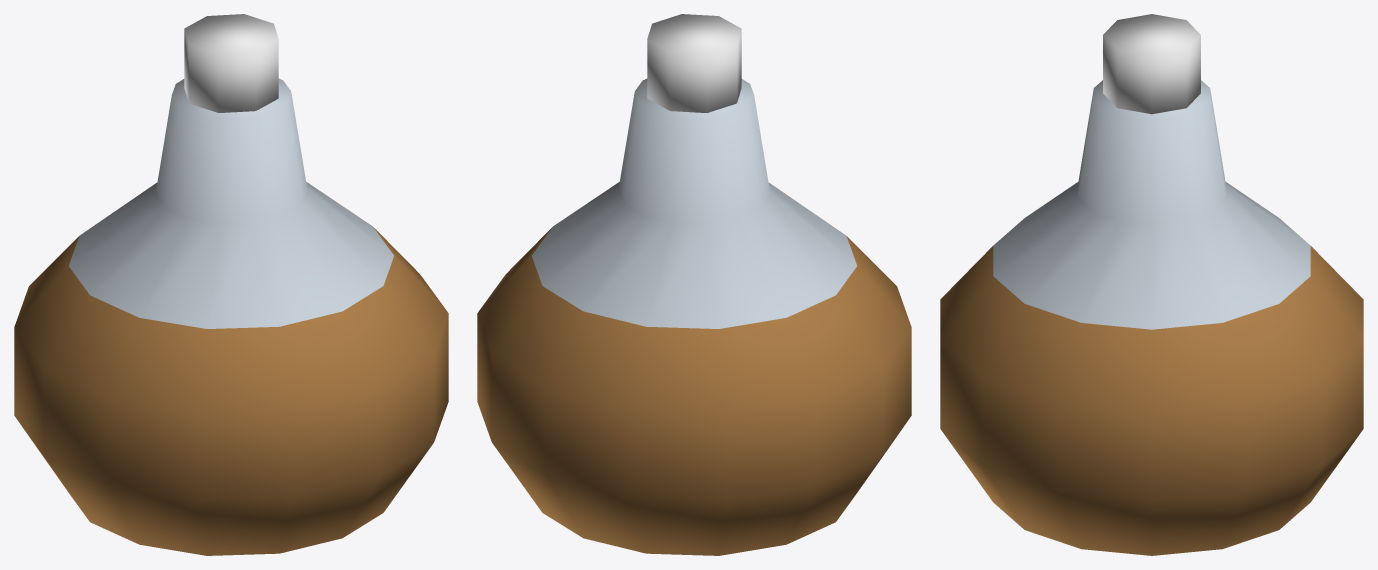
File: crate_potion.glb
3 renders of one model, left to right at view 1: azimuth 30°, elevation 25°; view 2: azimuth 150°, elevation 25°; view 3: azimuth 270°, elevation 25°, orthographic.
Parts seen in each view (by area): view 1: crate_potion_v0; view 2: crate_potion_v0; view 3: crate_potion_v0.
Part boxes in pixels (x1,y1,x2,y2): crate_potion_v0: (14, 14, 448, 555); crate_potion_v0: (477, 14, 911, 555); crate_potion_v0: (940, 14, 1363, 555).
Bounding box in the file's own units: 0.24 × 0.276 × 0.234.
